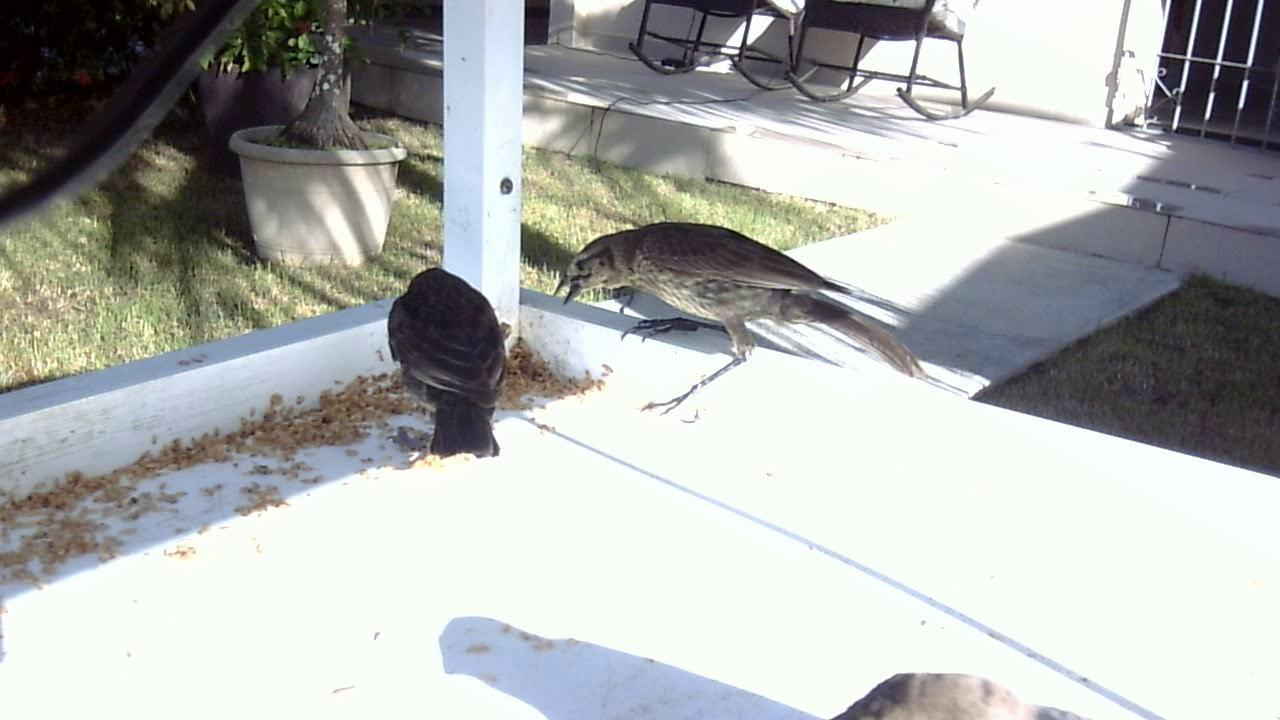chupim: (531, 196, 986, 447), (372, 248, 523, 461)
